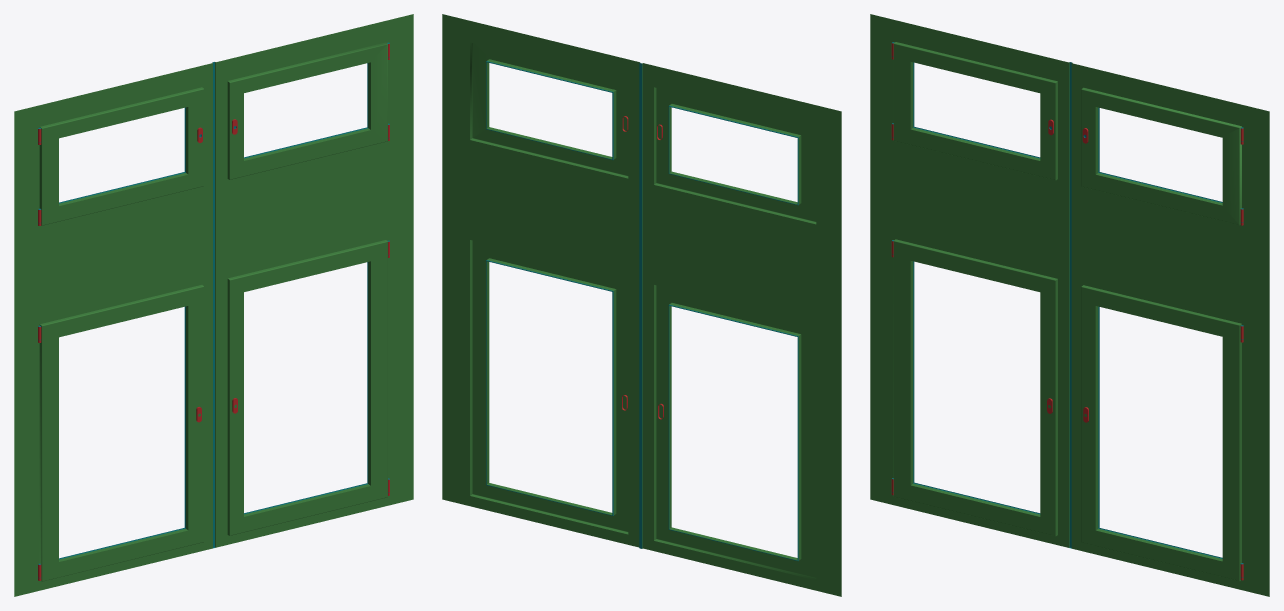
Rendered from SM_Window_04.fbx.
3 renders of one model, left to right at view 1: azimuth 30°, elevation 25°; view 2: azimuth 150°, elevation 25°; view 3: azimuth 330°, elevation 25°, orthographic.
Visible parts, largest first — view 1: SM_Window_04; view 2: SM_Window_04; view 3: SM_Window_04.
Boxes of the visible parts, left/top/right/bottom form: SM_Window_04: left=14, top=14, right=413, bottom=596; SM_Window_04: left=442, top=14, right=841, bottom=596; SM_Window_04: left=870, top=14, right=1269, bottom=596.
Bounding box in the file's own units: 217 × 252 × 3.85.
